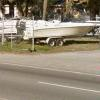Boat: (14, 9, 99, 48)
